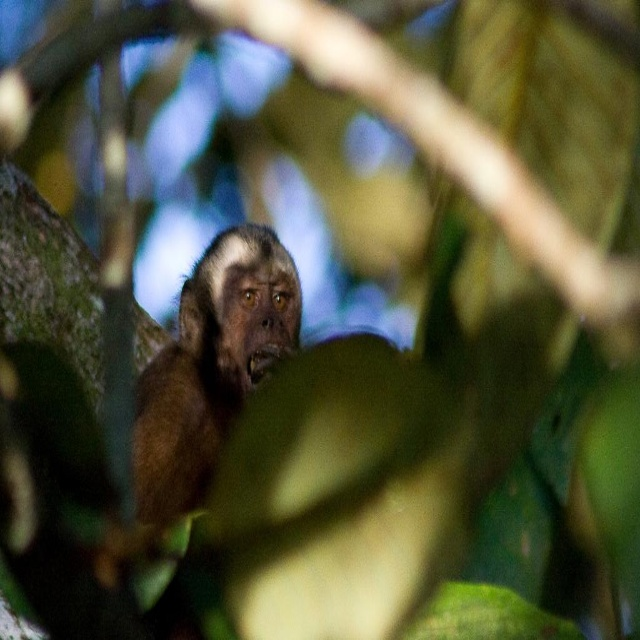Monkey: (129, 223, 327, 525)
